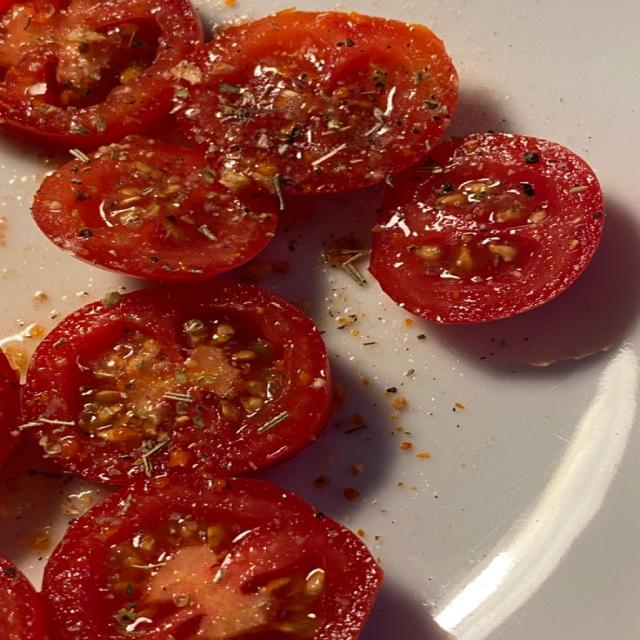sliced tomatoe: (23, 281, 331, 484), (43, 474, 381, 639), (176, 10, 457, 193), (370, 134, 603, 322), (33, 136, 277, 279), (0, 0, 201, 147), (0, 557, 47, 639), (0, 350, 19, 465)
